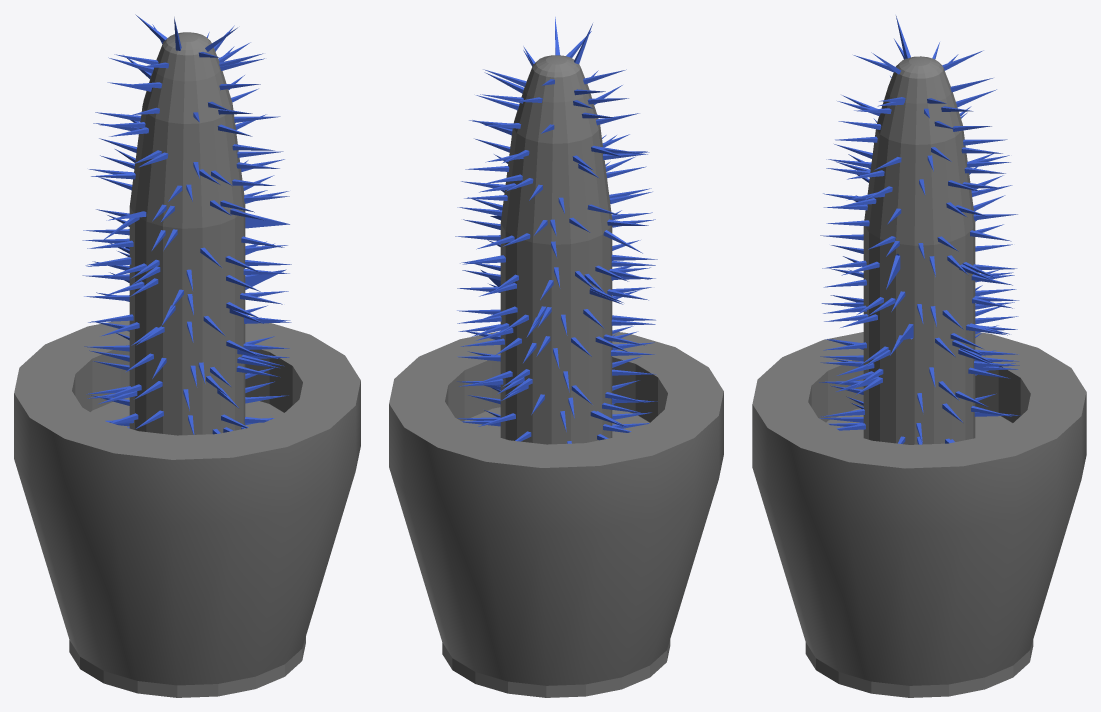
The model's file is cactus.fbx.
3 renders of one model, left to right at view 1: azimuth 30°, elevation 25°; view 2: azimuth 150°, elevation 25°; view 3: azimuth 270°, elevation 25°, orthographic. The views are drawn at different scales.
Parts seen in each view (by area): view 1: cactus; view 2: cactus; view 3: cactus.
Part boxes in pixels (<box>): cactus: <box>14,14,360,697</box>; cactus: <box>389,17,723,697</box>; cactus: <box>752,16,1086,697</box>.
Size of the model in its own units: 4.34 by 8.93 by 4.34.
